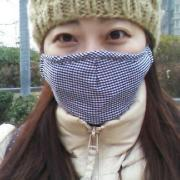OK: (41, 14, 148, 121)
